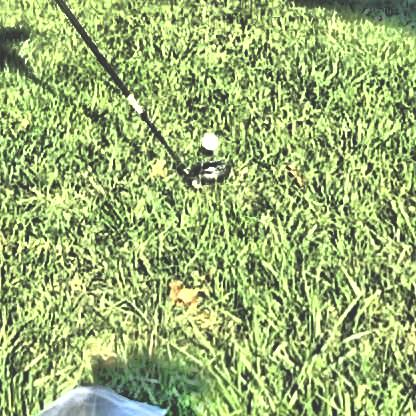golfball: (198, 129, 215, 146)
